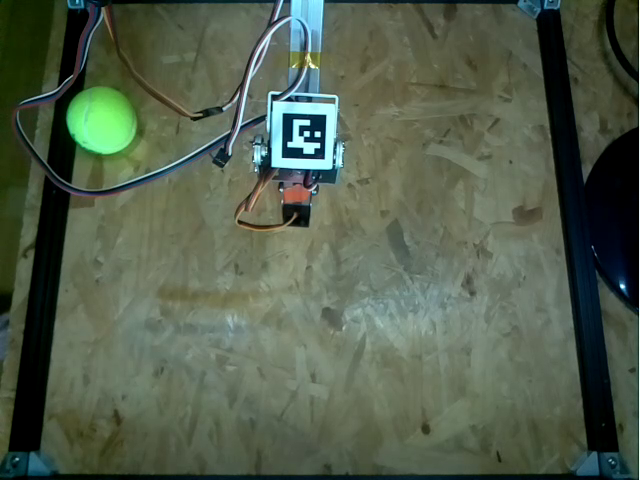tennis_ball: (68, 87, 137, 154)
